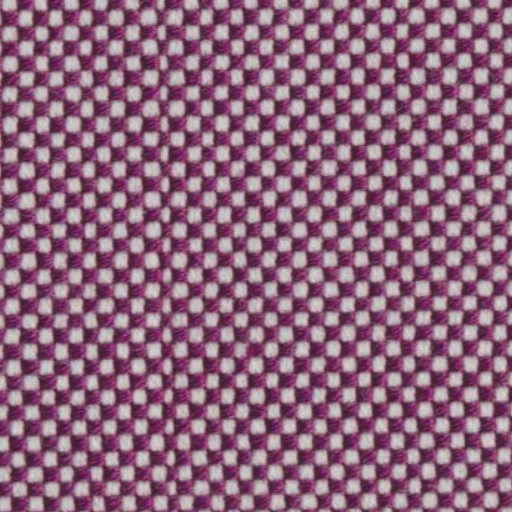TuoSha: (136, 14, 189, 498)
